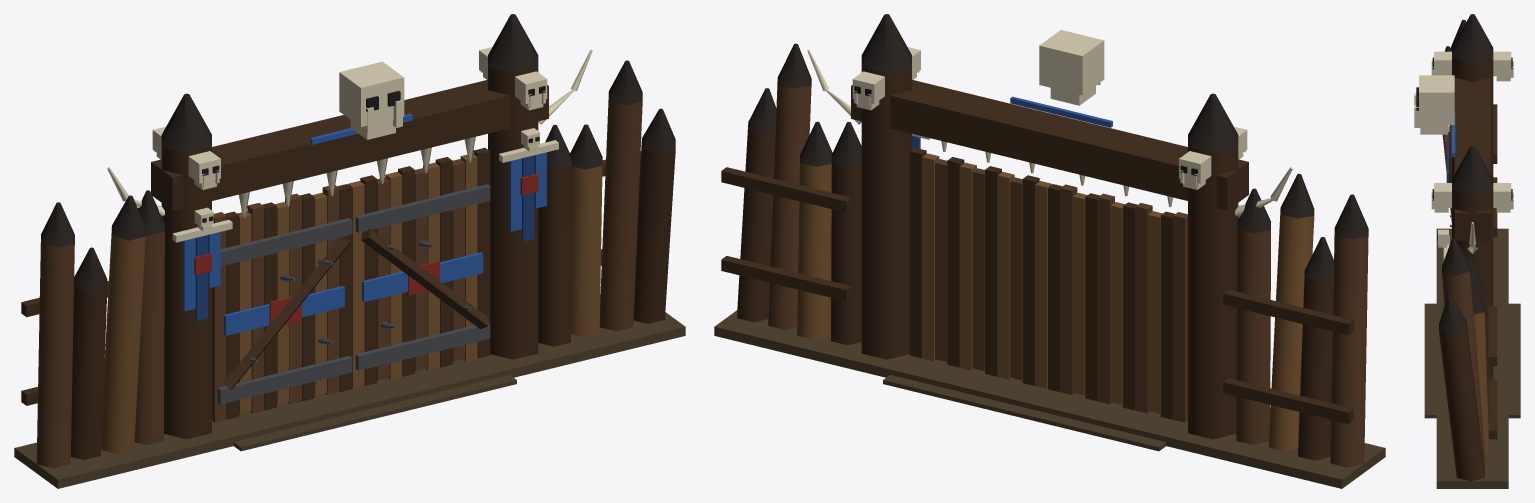
Rendered from orc-palisade-gate.glb.
3 renders of one model, left to right at view 1: azimuth 30°, elevation 25°; view 2: azimuth 150°, elevation 25°; view 3: azimuth 270°, elevation 25°, orthographic. The views are drawn at different scales.
Parts seen in each view (by area): view 1: orc-palisade-gate; view 2: orc-palisade-gate; view 3: orc-palisade-gate.
Part boxes in pixels (box(x1,y1,x2,y2)): orc-palisade-gate: box(14, 14, 685, 488); orc-palisade-gate: box(714, 14, 1385, 488); orc-palisade-gate: box(1414, 14, 1520, 488).
Bounding box in the file's own units: 10 × 5.2 × 1.77.
1 material, 1 textured.
